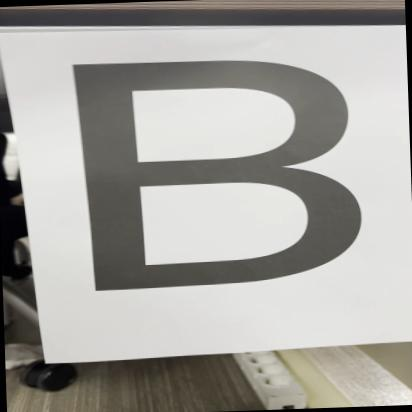seat: (52, 44, 378, 298)
